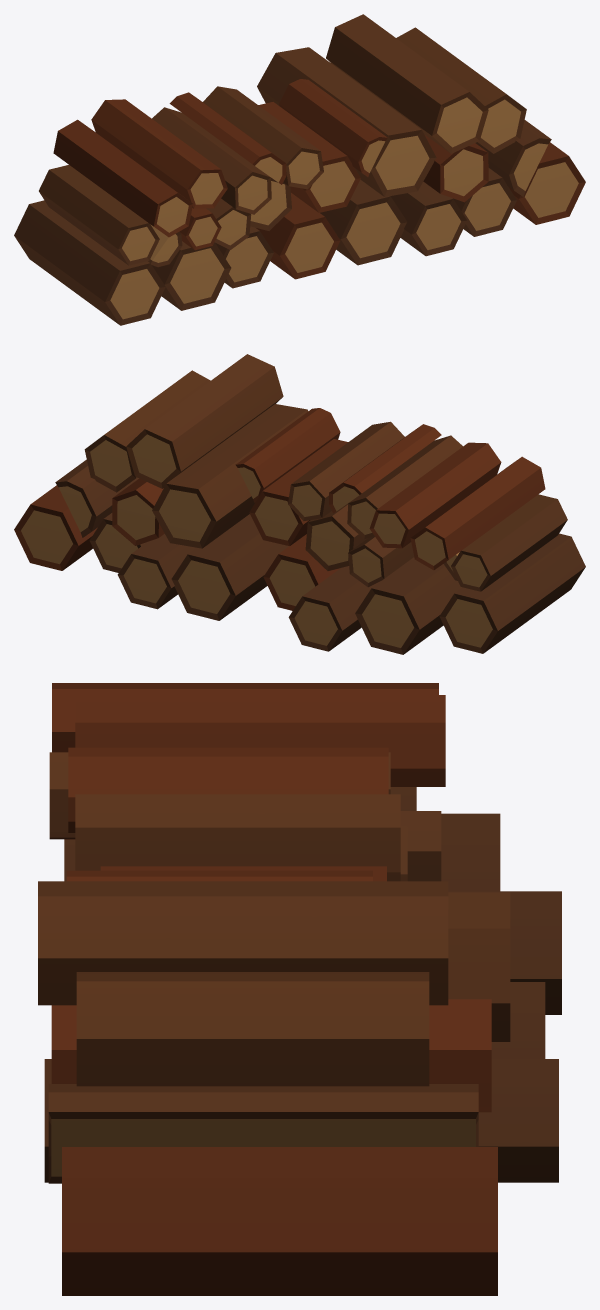
Rendered from Prop_Wood_Pile_02.obj.
3 renders of one model, top to bottom at view 1: azimuth 30°, elevation 25°; view 2: azimuth 150°, elevation 25°; view 3: azimuth 270°, elevation 25°, orthographic. The views are drawn at different scales.
Parts seen in each view (by area): view 1: Prop_Wood_Pile_02; view 2: Prop_Wood_Pile_02; view 3: Prop_Wood_Pile_02.
Part boxes in pixels (box(x1,y1,x2,y2)): Prop_Wood_Pile_02: box(14, 14, 585, 325); Prop_Wood_Pile_02: box(14, 354, 585, 654); Prop_Wood_Pile_02: box(38, 683, 561, 1295).
Size of the model in its own units: 1.25 by 0.3866 by 0.6113.
1 material, 1 textured.
